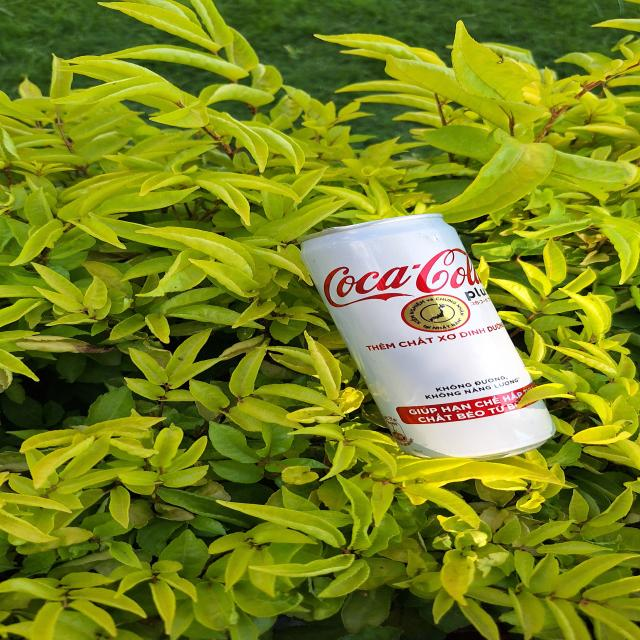Coca Cola Plus: (293, 204, 561, 463)
